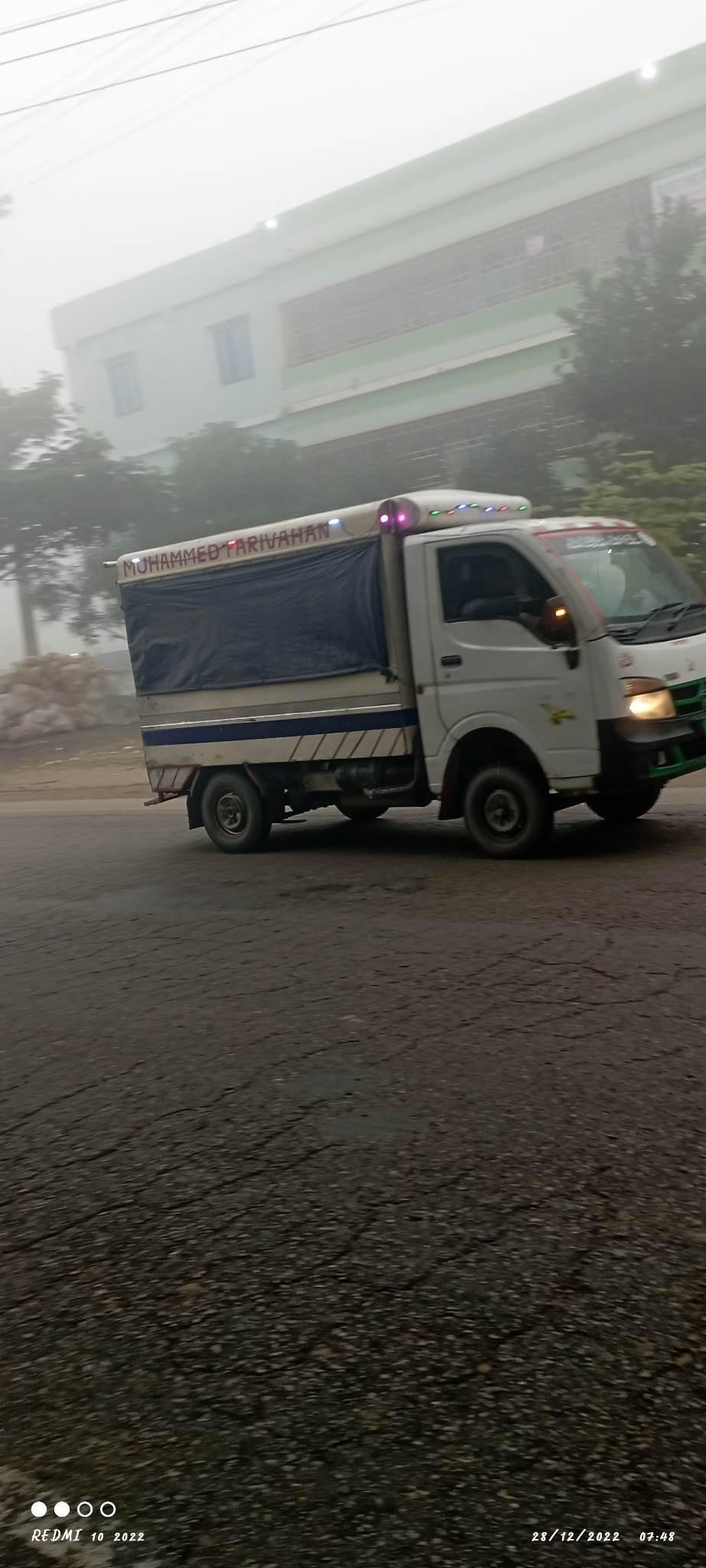Car: (86, 482, 693, 878)
